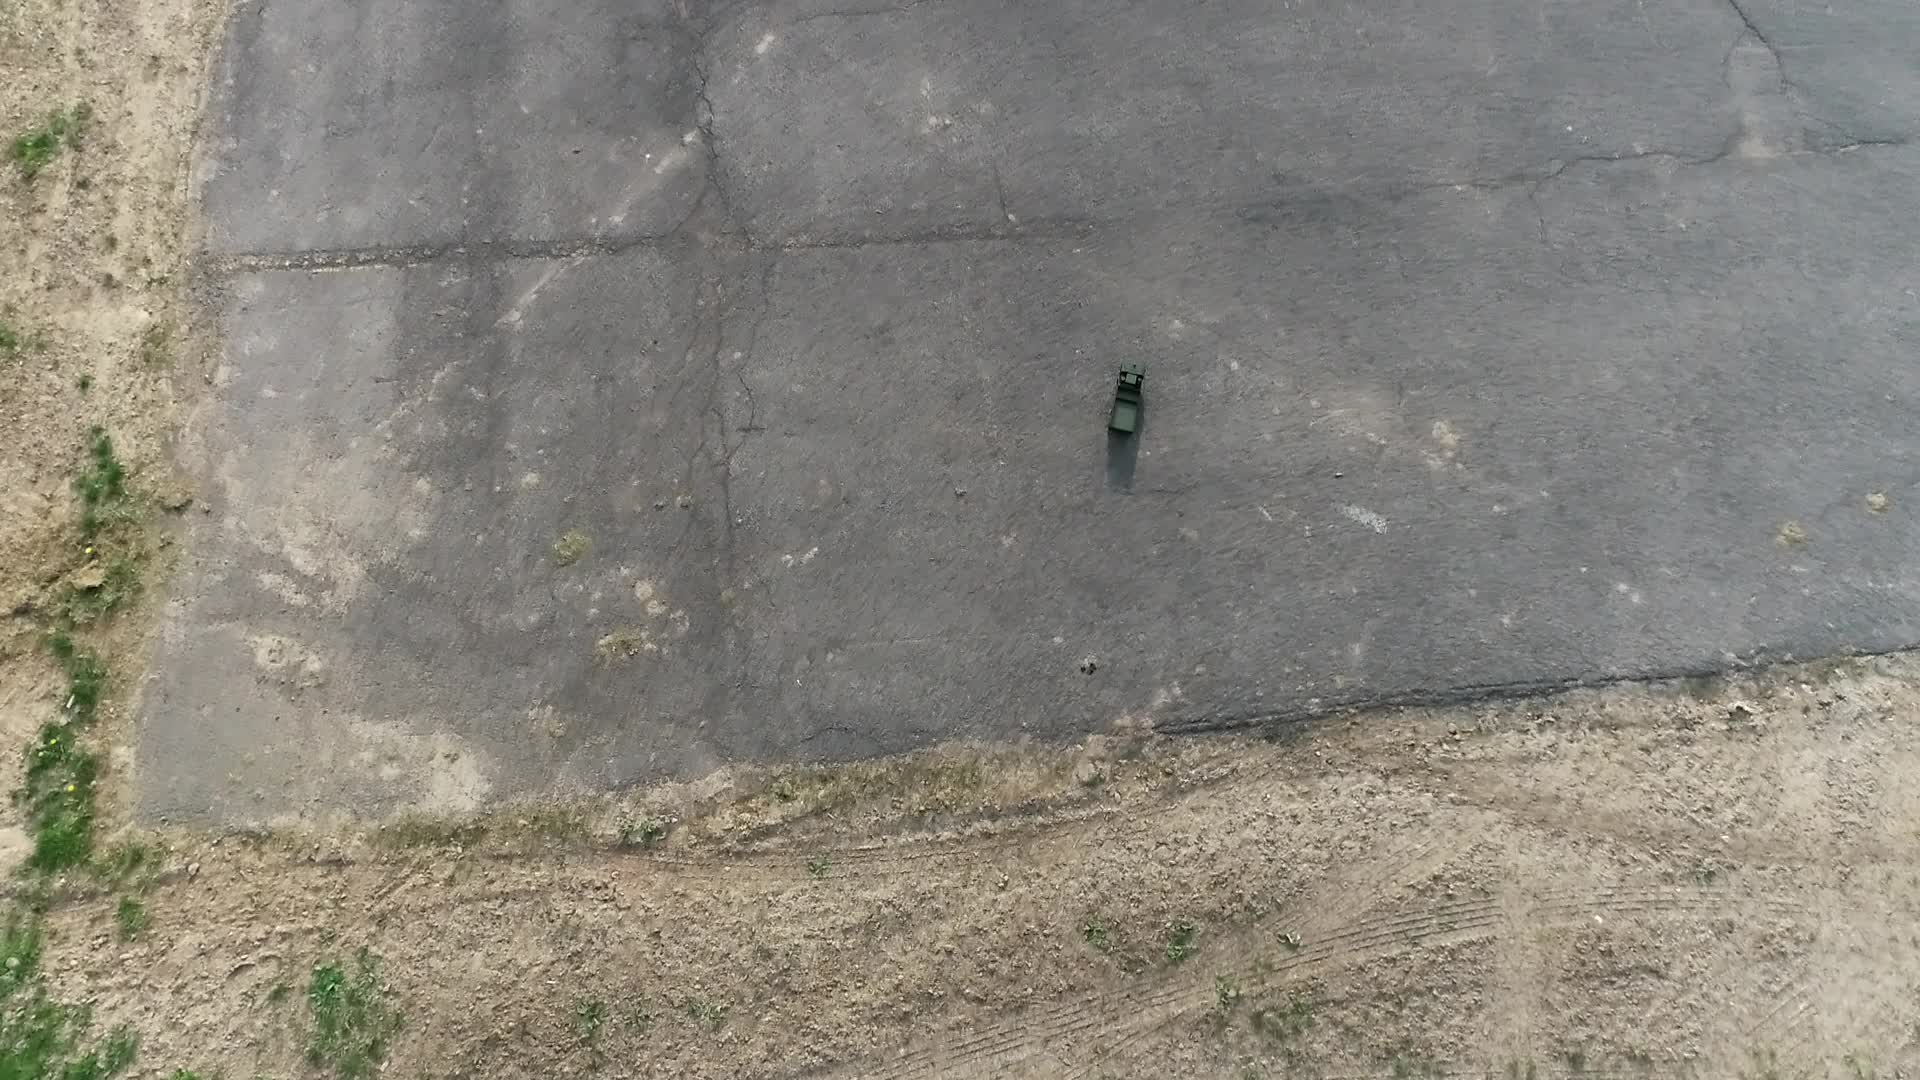transporter9: (1104, 357, 1150, 443)
